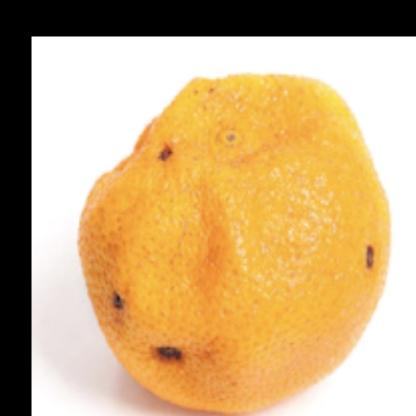rotten: (80, 75, 392, 416)
